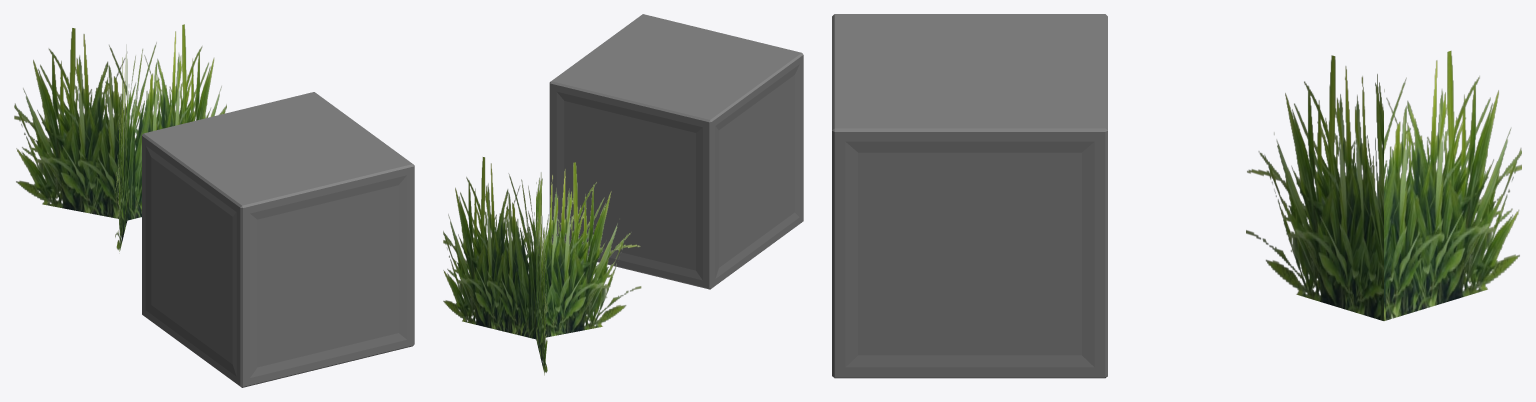
Rendered from faceball-tiles.glb.
The picture shows the model from 3 angles, left to right: view 1: azimuth 30°, elevation 25°; view 2: azimuth 150°, elevation 25°; view 3: azimuth 270°, elevation 25°; orthographic projection. The views are drawn at different scales.
Parts seen in each view (by area): view 1: Cube, Plane; view 2: Cube, Plane; view 3: Cube, Plane.
Part boxes in pixels (x1,y1,x2,y2): Cube: (142,92,414,387); Plane: (14,24,226,251); Cube: (549,14,803,289); Plane: (443,157,641,375); Cube: (832,14,1107,378); Plane: (1246,51,1521,320).
Bounding box in the file's own units: 2.14 × 2 × 5.
2 materials, 1 textured.
